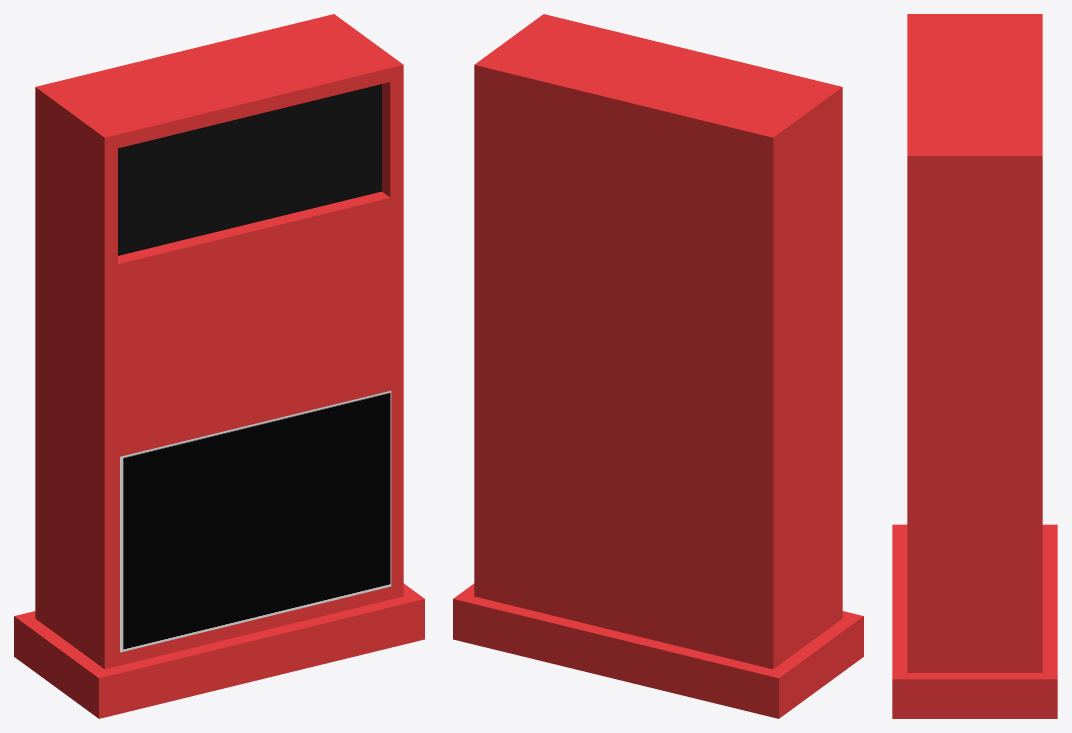
The model's file is Itr_Airconditioner1_Body_02.FBX.
The picture shows the model from 3 angles, left to right: view 1: azimuth 30°, elevation 25°; view 2: azimuth 150°, elevation 25°; view 3: azimuth 270°, elevation 25°; orthographic projection. The views are drawn at different scales.
Visible parts, largest first — view 1: Itr_Airconditioner1_Body_02; view 2: Itr_Airconditioner1_Body_02; view 3: Itr_Airconditioner1_Body_02.
Boxes of the visible parts, bbox=[...] form: Itr_Airconditioner1_Body_02: bbox=[14, 14, 424, 718]; Itr_Airconditioner1_Body_02: bbox=[453, 14, 863, 718]; Itr_Airconditioner1_Body_02: bbox=[892, 14, 1057, 718].
Bounding box in the file's own units: 48.49 × 81.38 × 21.9.
